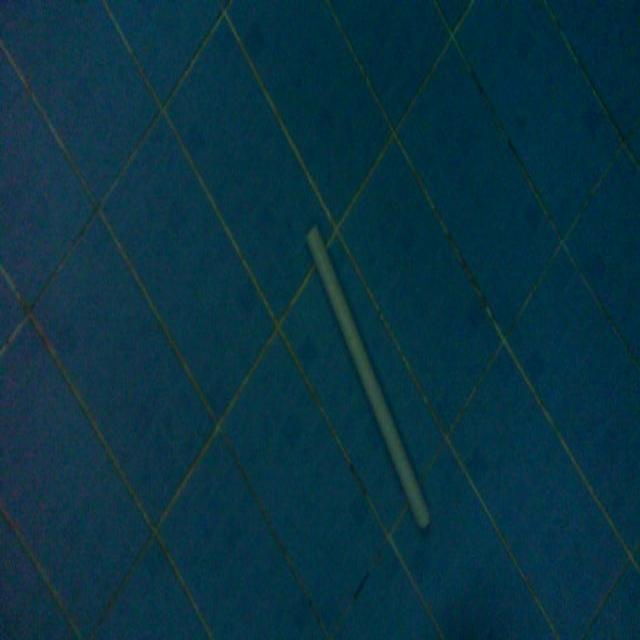Cube: (303, 218, 432, 532)
